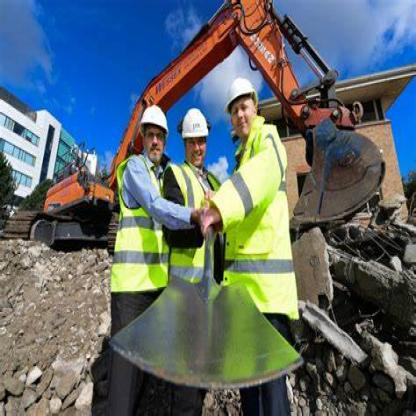person: (217, 48, 296, 414), (114, 100, 166, 415), (168, 94, 218, 414)
